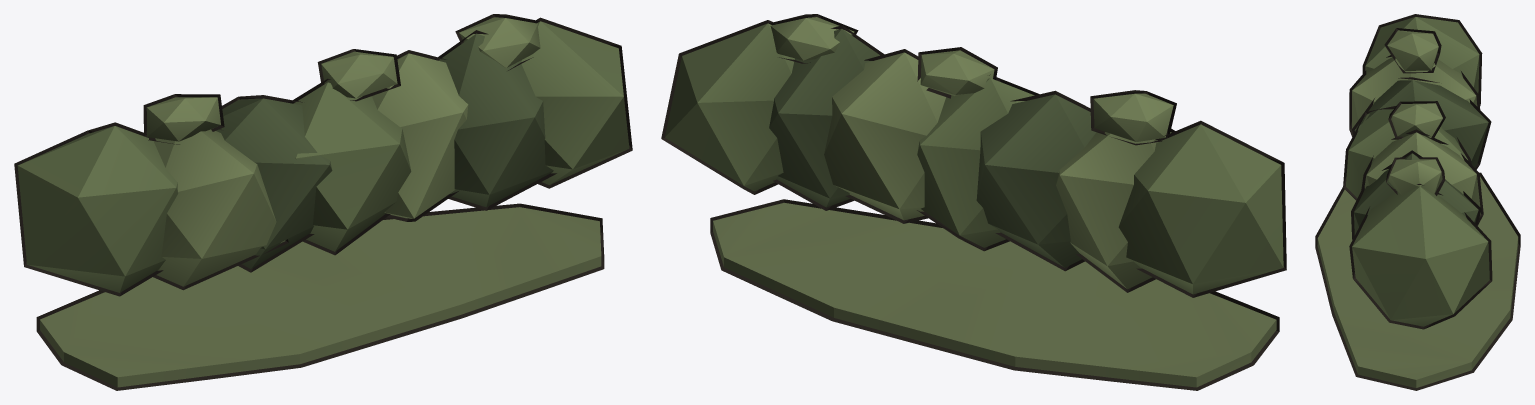
Rendered from haie.glb.
3 renders of one model, left to right at view 1: azimuth 30°, elevation 25°; view 2: azimuth 150°, elevation 25°; view 3: azimuth 270°, elevation 25°, orthographic. The views are drawn at different scales.
Parts seen in each view (by area): view 1: haie, haie_outline; view 2: haie, haie_outline; view 3: haie, haie_outline.
Boxes of the visible parts, left/top/right/bottom form: haie: left=17, top=17, right=629, bottom=387; haie_outline: left=14, top=14, right=632, bottom=390; haie: left=665, top=17, right=1283, bottom=387; haie_outline: left=661, top=14, right=1286, bottom=390; haie: left=1317, top=17, right=1518, bottom=387; haie_outline: left=1315, top=14, right=1520, bottom=390.
Size of the model in its own units: 2.47 by 0.9511 by 0.9043.
